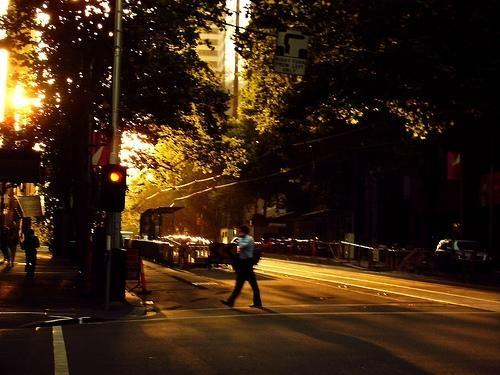car: (435, 239, 492, 276), (293, 240, 332, 256), (278, 240, 290, 253)
truck: (436, 239, 456, 260)
